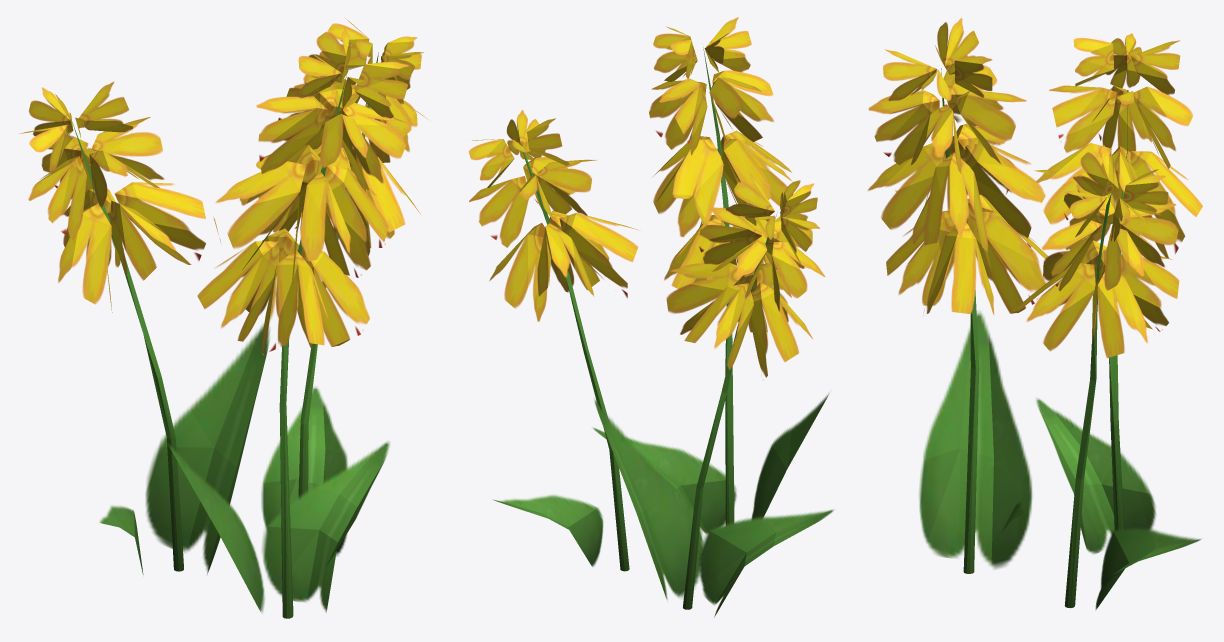
File: flowerGroup.glb
3 renders of one model, left to right at view 1: azimuth 30°, elevation 25°; view 2: azimuth 150°, elevation 25°; view 3: azimuth 270°, elevation 25°, orthographic. The views are drawn at different scales.
Parts seen in each view (by area): view 1: Flower_4_Group; view 2: Flower_4_Group; view 3: Flower_4_Group.
Boxes of the visible parts, x1,y1,x2,y2 form: Flower_4_Group: [19, 17, 428, 618]; Flower_4_Group: [468, 17, 833, 617]; Flower_4_Group: [867, 18, 1202, 609].
Bounding box in the file's own units: 1.78 × 2.49 × 1.37.
2 materials, 2 textured.
